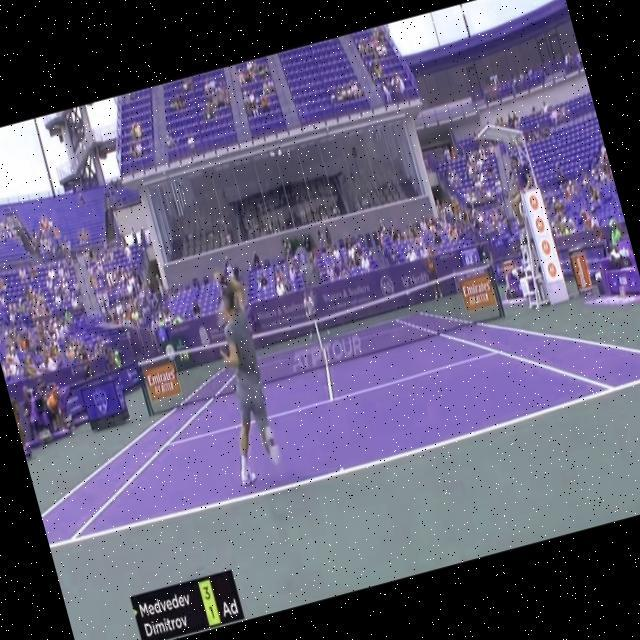court: (15, 253, 640, 553)
net: (133, 264, 509, 417)
player: (186, 264, 292, 487)
